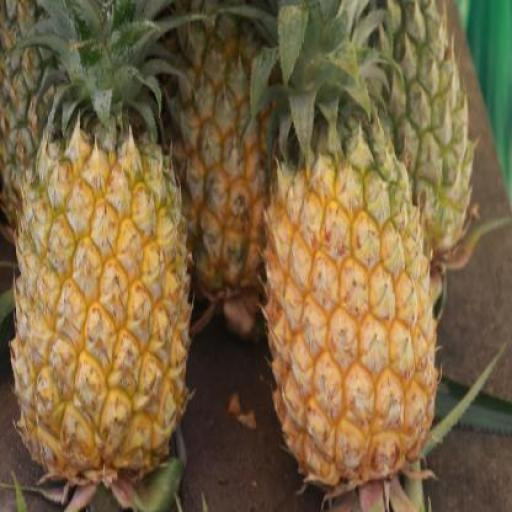Pineapple - v8 v1: (18, 133, 194, 466), (261, 152, 436, 472)
